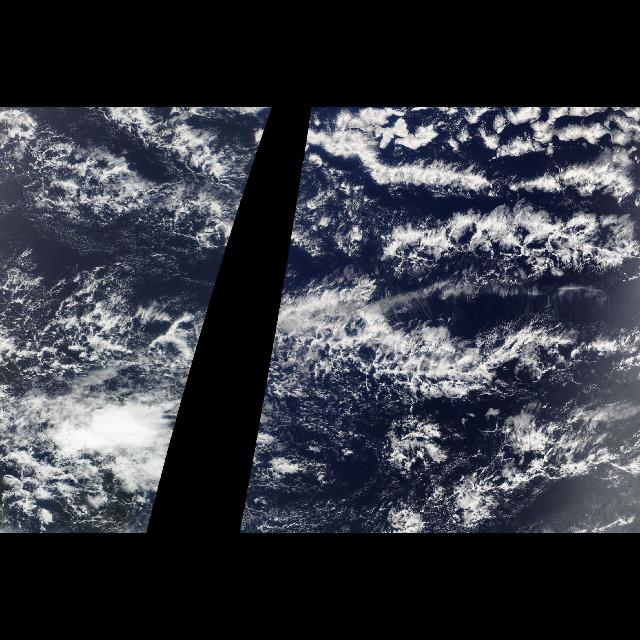Fish: (297, 291, 639, 411), (355, 192, 639, 284)
